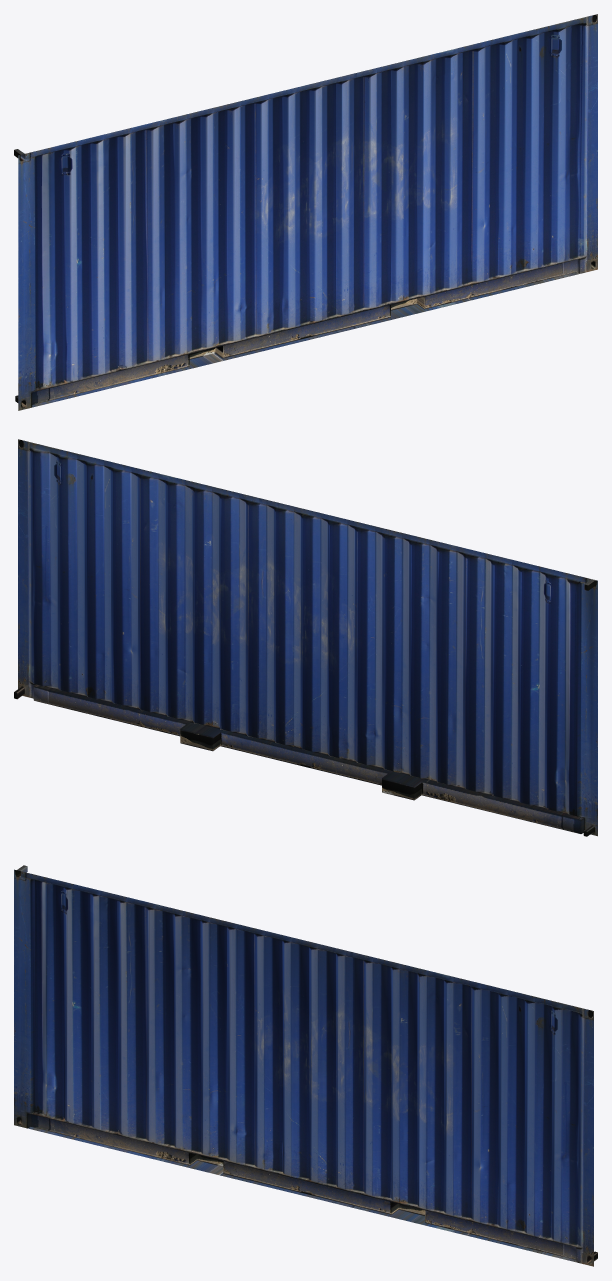
The model's file is MenuPlate.FBX.
The picture shows the model from 3 angles, top to bottom: view 1: azimuth 30°, elevation 25°; view 2: azimuth 150°, elevation 25°; view 3: azimuth 330°, elevation 25°; orthographic projection.
Visible parts, largest first — view 1: Plane002; view 2: Plane002; view 3: Plane002.
Boxes of the visible parts, bbox=[...] form: Plane002: bbox=[14, 14, 597, 410]; Plane002: bbox=[14, 439, 597, 836]; Plane002: bbox=[14, 865, 597, 1266].
Bounding box in the file's own units: 1422 × 599 × 40.58.
1 material, 1 textured.
